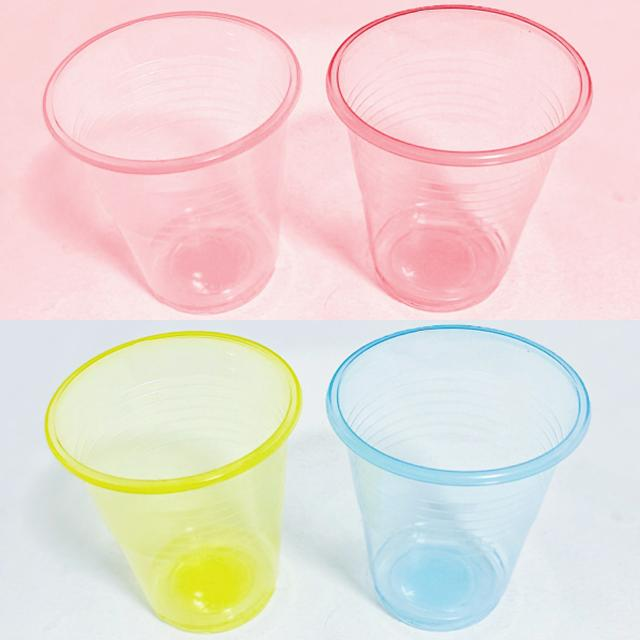Single-Use-Plastic: (326, 6, 591, 311), (326, 325, 590, 629), (44, 11, 300, 314), (45, 331, 300, 632)
